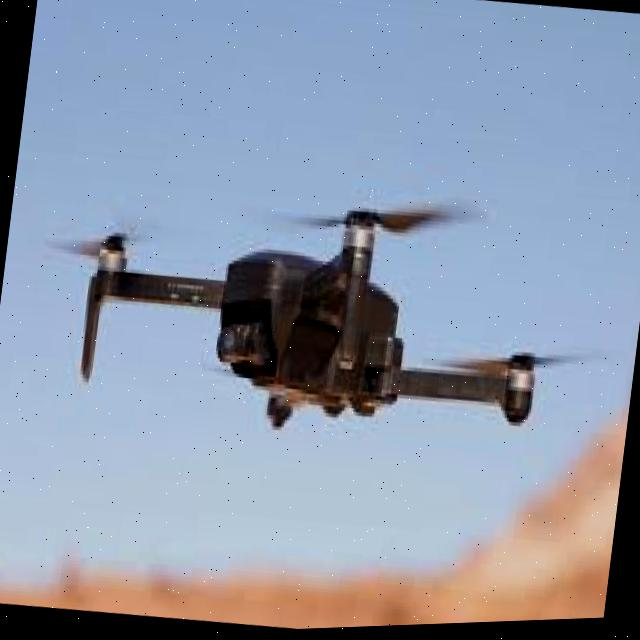drone: (27, 143, 624, 507)
